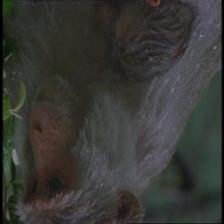monkey: (1, 51, 147, 224)
